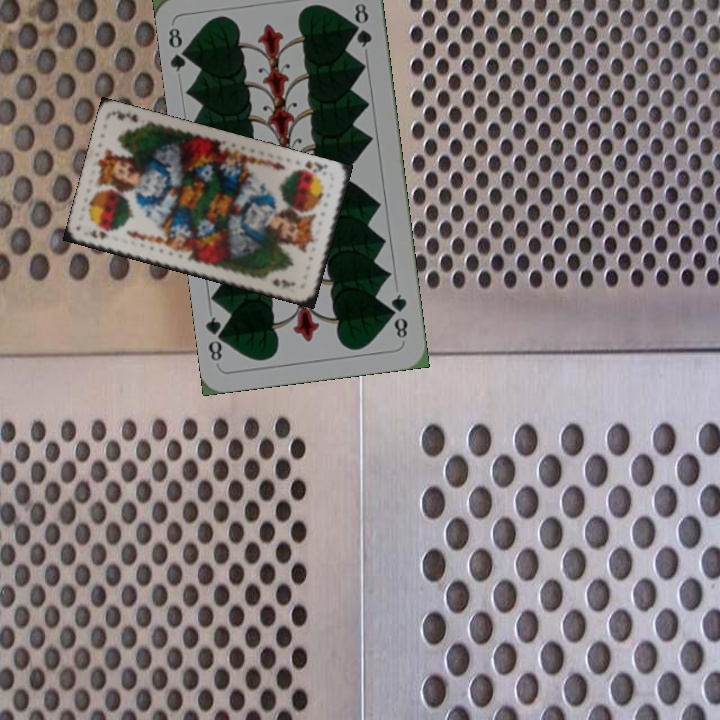G8: (164, 21, 195, 74), (386, 289, 410, 341)
SK: (292, 157, 330, 178), (86, 226, 111, 241)
